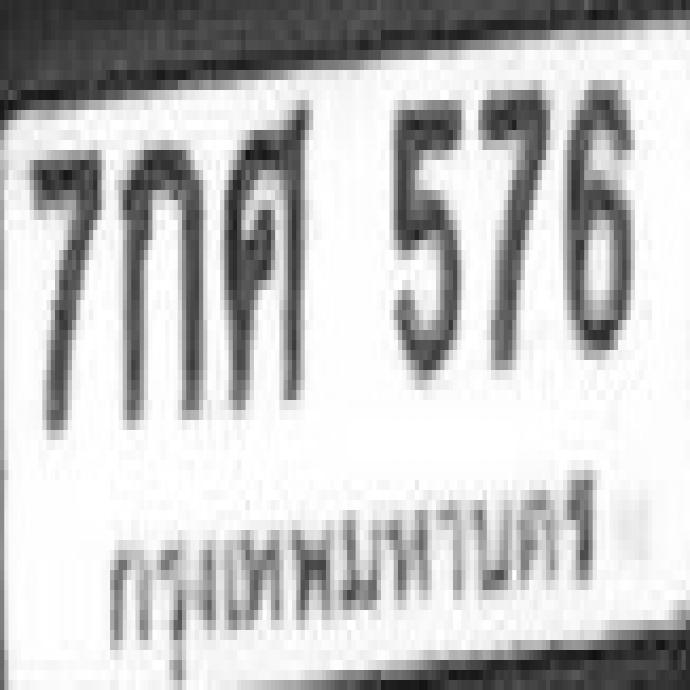5: (388, 89, 457, 374)
6: (560, 71, 627, 345)
7: (26, 140, 98, 426), (476, 80, 545, 361)
A01: (116, 132, 199, 417)
A38: (219, 92, 304, 399)
BKK: (92, 456, 608, 660)
